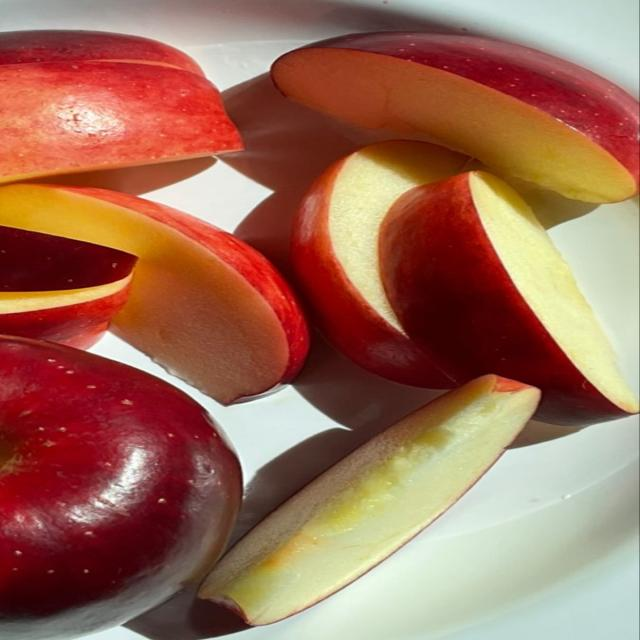apple: (200, 375, 539, 625), (0, 337, 241, 639), (0, 184, 309, 403), (380, 172, 638, 425), (272, 32, 639, 202), (292, 141, 469, 388), (0, 61, 242, 182), (0, 226, 137, 348), (0, 30, 203, 75)
